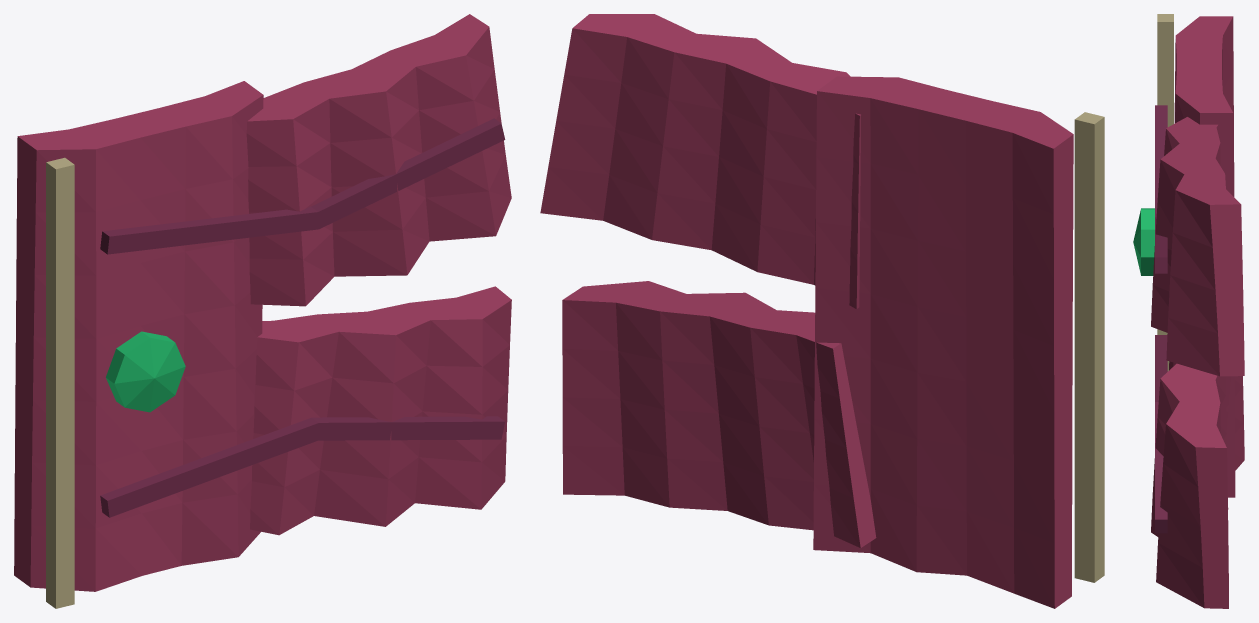
File: swallow_tail_pennon.obj
3 views of the same model, side by side, from view 1: azimuth 30°, elevation 25°; view 2: azimuth 150°, elevation 25°; view 3: azimuth 270°, elevation 25° (orthographic). The views are drawn at different scales.
Visible parts, largest first — view 1: swallow_root, swallow_-1_swallow_tail, swallow_1_swallow_tail, swallow_root_edge, swallow_mount, pennon_fold_-1, pennon_fold_1, swallow_1_swallow_tail_edge, swallow_-1_swallow_tail_edge, pennon_gem, swallow_mount_edge, pennon_fold_1_edge (+1 smaller); view 2: swallow_root_back, swallow_-1_swallow_tail_back, swallow_1_swallow_tail_back, swallow_root_edge, swallow_mount, swallow_-1_swallow_tail_edge, swallow_1_swallow_tail_edge, swallow_mount_edge; view 3: swallow_1_swallow_tail, swallow_1_swallow_tail_edge, swallow_-1_swallow_tail_edge, swallow_-1_swallow_tail, swallow_root_edge, swallow_mount_edge, swallow_-1_swallow_tail_back, pennon_fold_-1_edge, pennon_fold_1_edge, pennon_gem, swallow_root_back, swallow_root.
Part boxes in pixels (x1=…): swallow_root: x1=30, y1=95, x2=263, y2=591; swallow_-1_swallow_tail: x1=250, y1=300, x2=511, y2=535; swallow_1_swallow_tail: x1=246, y1=27, x2=511, y2=306; swallow_root_edge: x1=14, y1=81, x2=263, y2=587; swallow_mount: x1=56, y1=165, x2=74, y2=608; pennon_fold_-1: x1=107, y1=421, x2=504, y2=517; pennon_fold_1: x1=107, y1=123, x2=505, y2=254; swallow_1_swallow_tail_edge: x1=248, y1=14, x2=489, y2=121; swallow_-1_swallow_tail_edge: x1=257, y1=286, x2=511, y2=342; pennon_gem: x1=106, y1=331, x2=185, y2=412; swallow_mount_edge: x1=46, y1=157, x2=74, y2=608; pennon_fold_1_edge: x1=100, y1=118, x2=500, y2=254; swallow_root_back: x1=813, y1=91, x2=1054, y2=608; swallow_-1_swallow_tail_back: x1=562, y1=300, x2=860, y2=547; swallow_1_swallow_tail_back: x1=540, y1=28, x2=859, y2=308; swallow_root_edge: x1=817, y1=76, x2=1073, y2=608; swallow_mount: x1=1074, y1=119, x2=1094, y2=582; swallow_-1_swallow_tail_edge: x1=563, y1=281, x2=876, y2=547; swallow_1_swallow_tail_edge: x1=573, y1=14, x2=860, y2=308; swallow_mount_edge: x1=1075, y1=112, x2=1104, y2=582; swallow_1_swallow_tail: x1=1151, y1=129, x2=1219, y2=376; swallow_1_swallow_tail_edge: x1=1160, y1=117, x2=1244, y2=376; swallow_-1_swallow_tail_edge: x1=1160, y1=363, x2=1228, y2=608; swallow_-1_swallow_tail: x1=1151, y1=362, x2=1204, y2=607; swallow_root_edge: x1=1175, y1=16, x2=1235, y2=497; swallow_mount_edge: x1=1157, y1=14, x2=1173, y2=371; swallow_-1_swallow_tail_back: x1=1215, y1=375, x2=1244, y2=509; pennon_fold_-1_edge: x1=1155, y1=335, x2=1167, y2=533; pennon_fold_1_edge: x1=1155, y1=105, x2=1167, y2=273; pennon_gem: x1=1133, y1=208, x2=1154, y2=275; swallow_root_back: x1=1222, y1=16, x2=1234, y2=196; swallow_root: x1=1169, y1=39, x2=1199, y2=370.
Size of the model in its own units: 1.17 by 1.04 by 0.2634.
